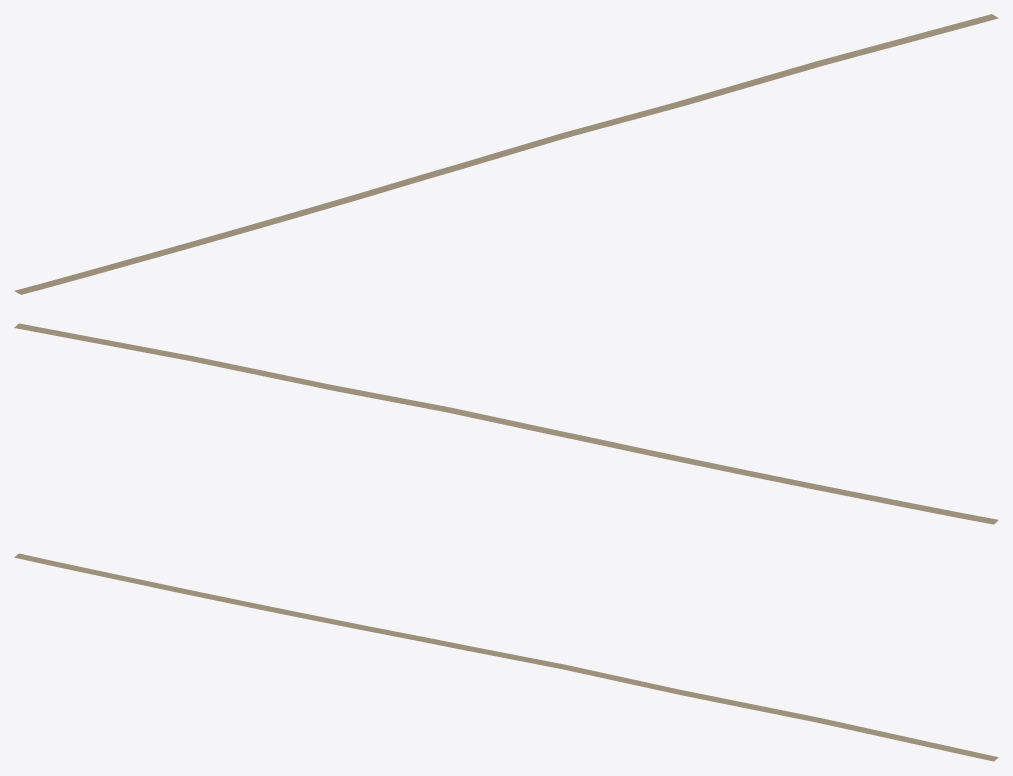
Rendered from farm_15_16_track.glb.
3 views of the same model, one above another, from view 1: azimuth 30°, elevation 25°; view 2: azimuth 150°, elevation 25°; view 3: azimuth 330°, elevation 25° (orthographic). The views are drawn at different scales.
Parts seen in each view (by area): view 1: geometry_0; view 2: geometry_0; view 3: geometry_0.
Part boxes in pixels (x1,y1,x2,y2): geometry_0: (14, 14, 998, 294); geometry_0: (14, 323, 998, 524); geometry_0: (14, 553, 998, 761).
Bounding box in the file's own units: 306 × 1.31 × 25.68.
